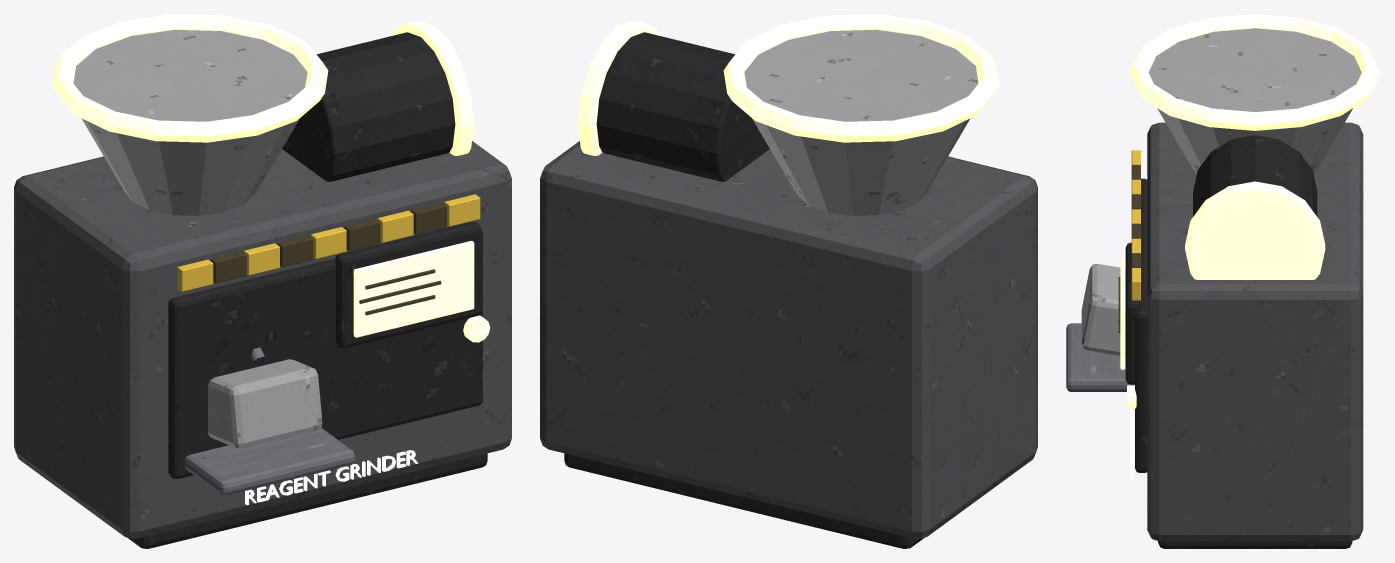
File: machine_reagent_grinder.glb
3 views of the same model, side by side, from view 1: azimuth 30°, elevation 25°; view 2: azimuth 150°, elevation 25°; view 3: azimuth 270°, elevation 25° (orthographic). The views are drawn at different scales.
Visible parts, largest first — view 1: MCH_Grinder__Lower_Casing, MCH_Grinder__Front_Panel, MCH_Grinder__Hopper, MCH_Grinder__Motor, MCH_Grinder__Hopper_Rim, MCH_Grinder__Output_Chute, MCH_Grinder__Grinder_Screen_Glow, MCH_Grinder__Output_Tray, MCH_Grinder__Grinder_Screen_Bezel, MCH_Grinder__Plinth, MCH_Grinder__Motor_Endcap, MCH_Grinder__Title_Text (+9 smaller); view 2: MCH_Grinder__Lower_Casing, MCH_Grinder__Hopper, MCH_Grinder__Motor, MCH_Grinder__Hopper_Rim, MCH_Grinder__Plinth, MCH_Grinder__Motor_Endcap; view 3: MCH_Grinder__Lower_Casing, MCH_Grinder__Hopper, MCH_Grinder__Motor_Endcap, MCH_Grinder__Hopper_Rim, MCH_Grinder__Motor, MCH_Grinder__Output_Chute, MCH_Grinder__Front_Panel, MCH_Grinder__Output_Tray, MCH_Grinder__Plinth, MCH_Grinder__Grinder_Screen_Bezel, MCH_Grinder__Grinder_Screen_Glow.
Boxes of the visible parts, bbox=[...] form: MCH_Grinder__Lower_Casing: bbox=[14, 141, 511, 538]; MCH_Grinder__Front_Panel: bbox=[168, 228, 482, 478]; MCH_Grinder__Hopper: bbox=[73, 29, 307, 215]; MCH_Grinder__Motor: bbox=[282, 32, 455, 181]; MCH_Grinder__Hopper_Rim: bbox=[52, 14, 328, 142]; MCH_Grinder__Output_Chute: bbox=[208, 359, 322, 448]; MCH_Grinder__Grinder_Screen_Glow: bbox=[353, 241, 474, 337]; MCH_Grinder__Output_Tray: bbox=[184, 428, 354, 495]; MCH_Grinder__Grinder_Screen_Bezel: bbox=[335, 222, 481, 348]; MCH_Grinder__Plinth: bbox=[127, 453, 487, 548]; MCH_Grinder__Motor_Endcap: bbox=[392, 20, 473, 155]; MCH_Grinder__Title_Text: bbox=[245, 450, 417, 505]; MCH_Grinder__Lower_Casing: bbox=[540, 141, 1037, 538]; MCH_Grinder__Hopper: bbox=[744, 29, 978, 215]; MCH_Grinder__Motor: bbox=[596, 32, 769, 181]; MCH_Grinder__Hopper_Rim: bbox=[723, 14, 999, 142]; MCH_Grinder__Plinth: bbox=[564, 453, 924, 548]; MCH_Grinder__Motor_Endcap: bbox=[578, 20, 659, 155]; MCH_Grinder__Lower_Casing: bbox=[1147, 122, 1363, 541]; MCH_Grinder__Hopper: bbox=[1148, 28, 1361, 175]; MCH_Grinder__Motor_Endcap: bbox=[1185, 181, 1325, 279]; MCH_Grinder__Hopper_Rim: bbox=[1129, 14, 1380, 130]; MCH_Grinder__Motor: bbox=[1193, 135, 1317, 216]; MCH_Grinder__Output_Chute: bbox=[1081, 264, 1125, 356]; MCH_Grinder__Front_Panel: bbox=[1135, 178, 1147, 472]; MCH_Grinder__Output_Tray: bbox=[1066, 323, 1134, 391]; MCH_Grinder__Plinth: bbox=[1158, 541, 1352, 548]; MCH_Grinder__Grinder_Screen_Bezel: bbox=[1125, 242, 1140, 384]; MCH_Grinder__Grinder_Screen_Glow: bbox=[1120, 257, 1125, 369].
Bounding box in the file's own units: 1.5 × 1.55 × 1.17.
8 materials, 4 textured.
